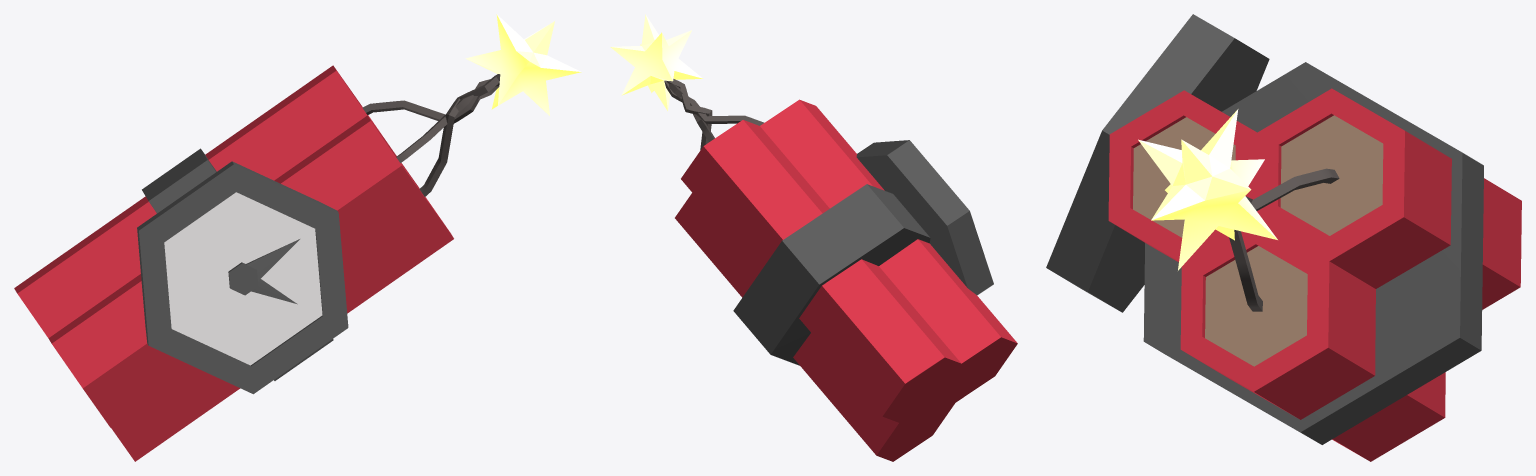
Rendered from Dynamite.fbx.
3 views of the same model, side by side, from view 1: azimuth 30°, elevation 25°; view 2: azimuth 150°, elevation 25°; view 3: azimuth 270°, elevation 25° (orthographic). The views are drawn at different scales.
Parts seen in each view (by area): view 1: Dynamite; view 2: Dynamite; view 3: Dynamite.
Boxes of the visible parts, x1,y1,x2,y2 form: Dynamite: [14, 14, 581, 461]; Dynamite: [610, 14, 1017, 461]; Dynamite: [1046, 14, 1521, 461].
Size of the model in its own units: 10.6 by 8.38 by 6.22.
2 materials, 1 textured.
